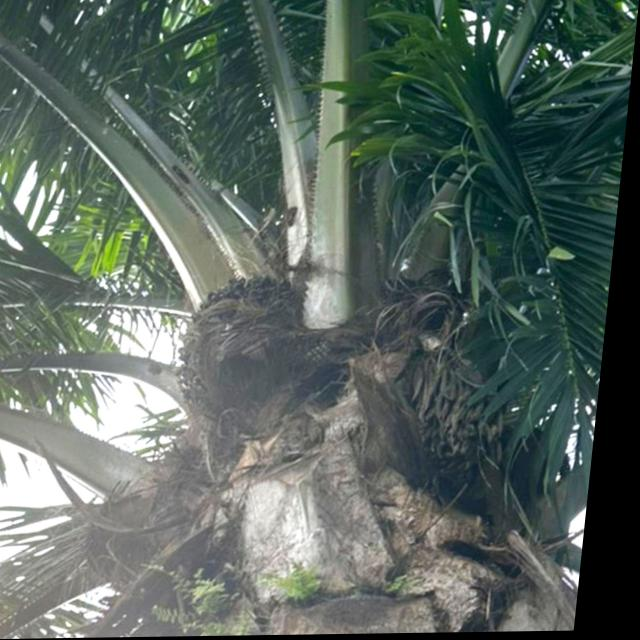unripe: (170, 269, 331, 435)
